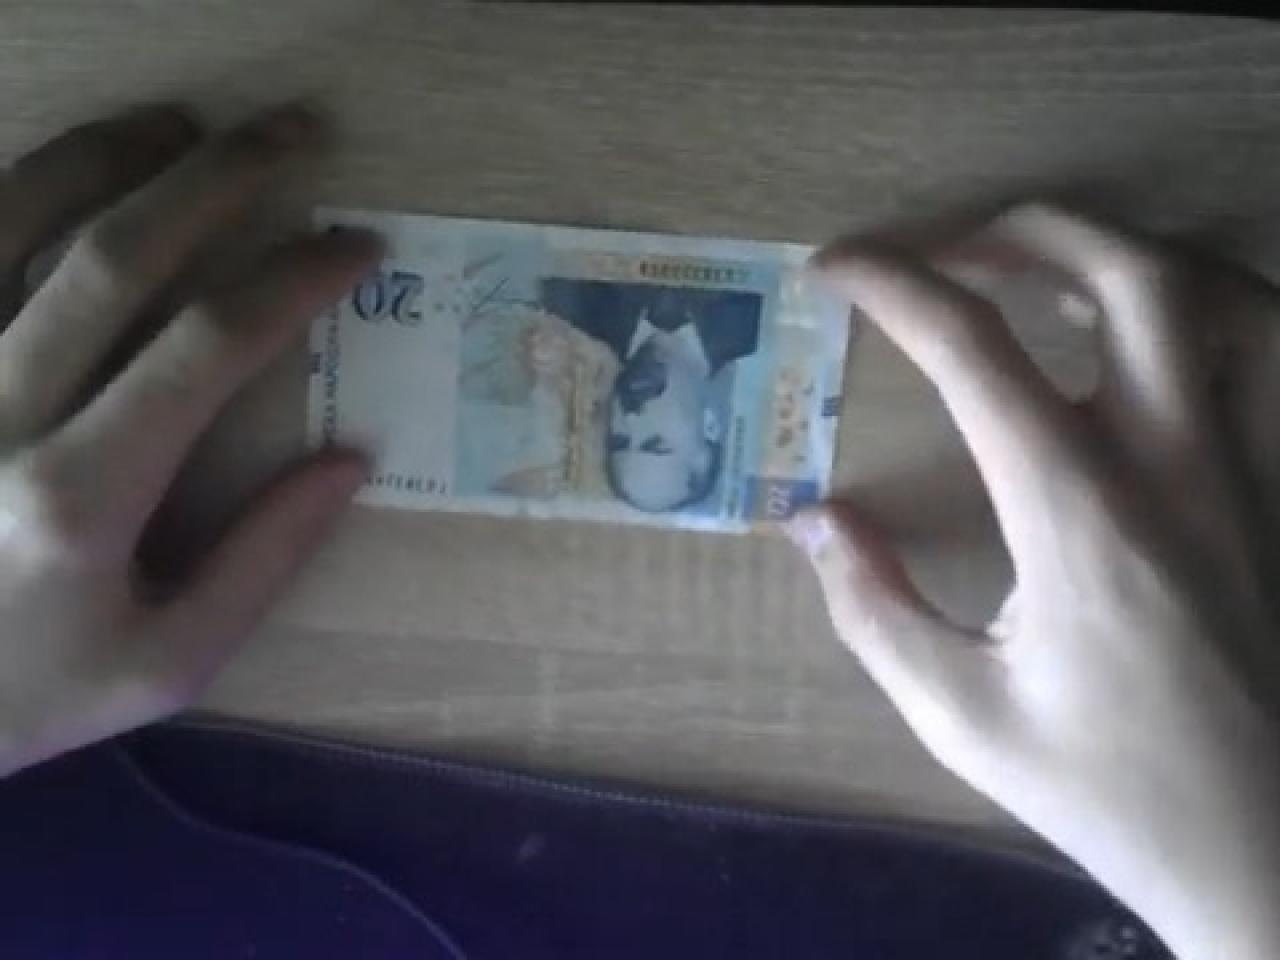20leva: (533, 274, 768, 520)
